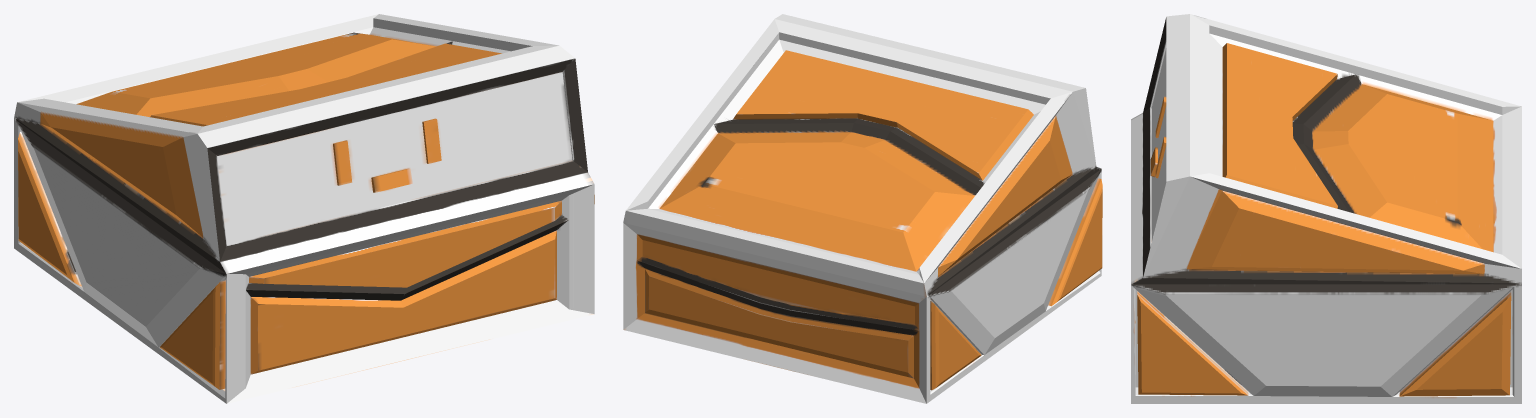
The model's file is DroneAnim.fbx.
3 views of the same model, side by side, from view 1: azimuth 30°, elevation 25°; view 2: azimuth 150°, elevation 25°; view 3: azimuth 270°, elevation 25° (orthographic). The views are drawn at different scales.
Parts seen in each view (by area): view 1: Cube; view 2: Cube; view 3: Cube.
Part boxes in pixels (x1,y1,x2,y2): Cube: (14, 14, 594, 403); Cube: (623, 14, 1102, 403); Cube: (1131, 14, 1521, 403).
Bounding box in the file's own units: 242 × 148 × 232.
2 materials, 1 textured.
